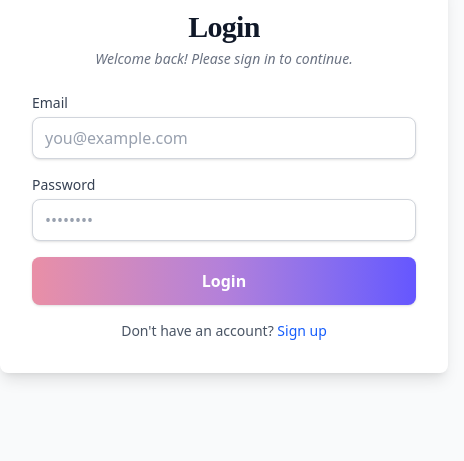
Test: LoginForm › shows error message on login failure
The image size is (464, 461).
In the field labelled "Email": (224, 138) 32,117 -> 416,159, type "wrong@x.com"
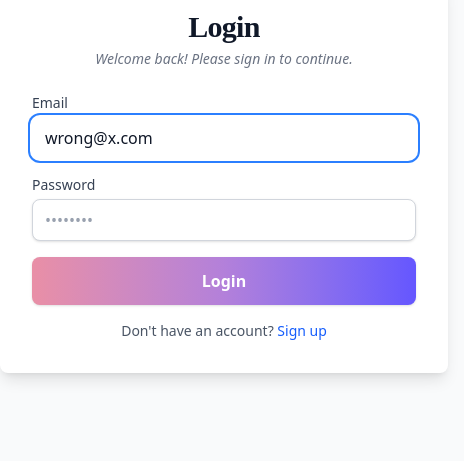
In the password field labelled "Password": (224, 220) 32,199 -> 416,241, type "wrongpass"
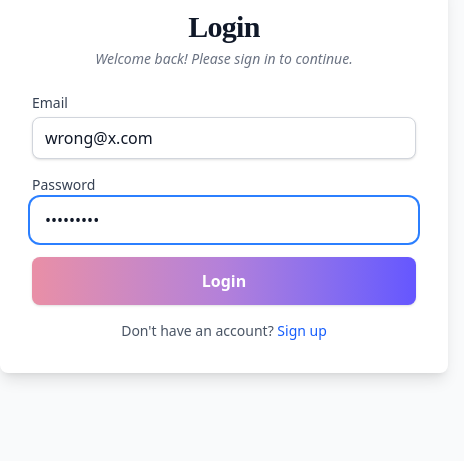
Click the button "Login": click(224, 281) 32,257 -> 416,305
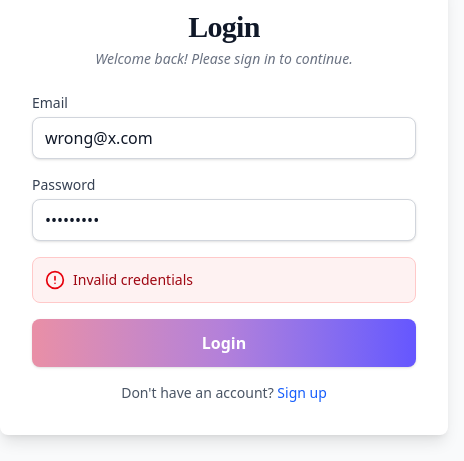
Expected: the text "Invalid credentials" is shown, 73,270 -> 193,290
